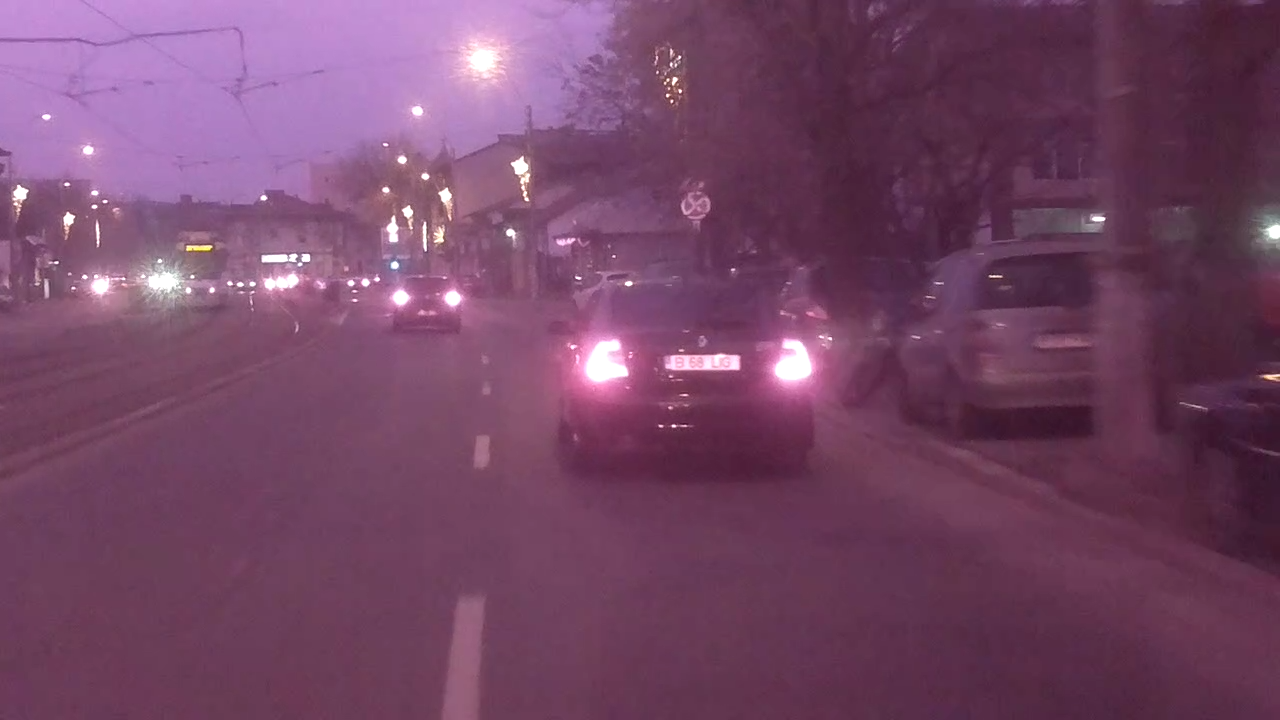license-plate: (657, 350, 744, 373)
